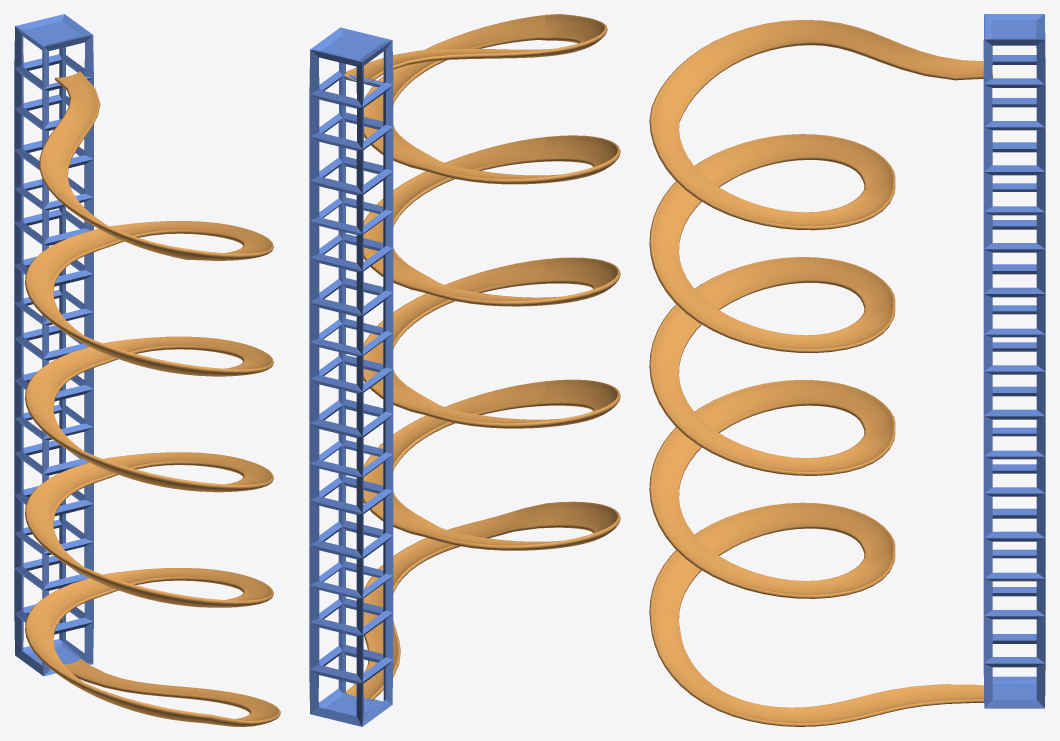
Rendered from road_5.fbx.
3 views of the same model, side by side, from view 1: azimuth 30°, elevation 25°; view 2: azimuth 150°, elevation 25°; view 3: azimuth 270°, elevation 25° (orthographic). The views are drawn at different scales.
Visible parts, largest first — view 1: road_5, elevator_5; view 2: road_5, elevator_5; view 3: road_5, elevator_5.
Part boxes in pixels (x1,y1,x2,y2): road_5: (25,71,280,726); elevator_5: (14,14,93,676); road_5: (344,14,620,700); elevator_5: (309,27,393,726); road_5: (649,19,992,726); elevator_5: (983,14,1045,708).
Bounding box in the file's own units: 3686 × 9989 × 5351.
